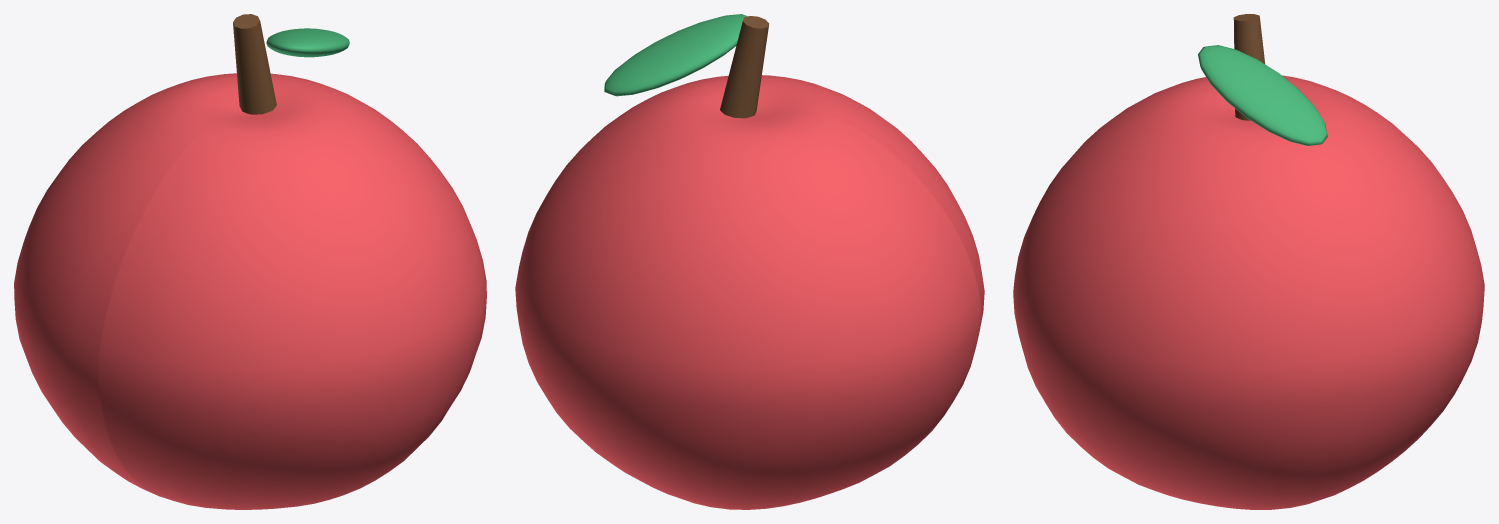
Rendered from apple.glb.
The picture shows the model from 3 angles, left to right: view 1: azimuth 30°, elevation 25°; view 2: azimuth 150°, elevation 25°; view 3: azimuth 270°, elevation 25°; orthographic projection.
Parts seen in each view (by area): view 1: apple; view 2: apple; view 3: apple.
Boxes of the visible parts, x1=… form: apple: x1=14, y1=14, x2=486, y2=509; apple: x1=515, y1=14, x2=984, y2=509; apple: x1=1013, y1=14, x2=1484, y2=509.
Size of the model in its own units: 1.9 by 2.08 by 1.9.
